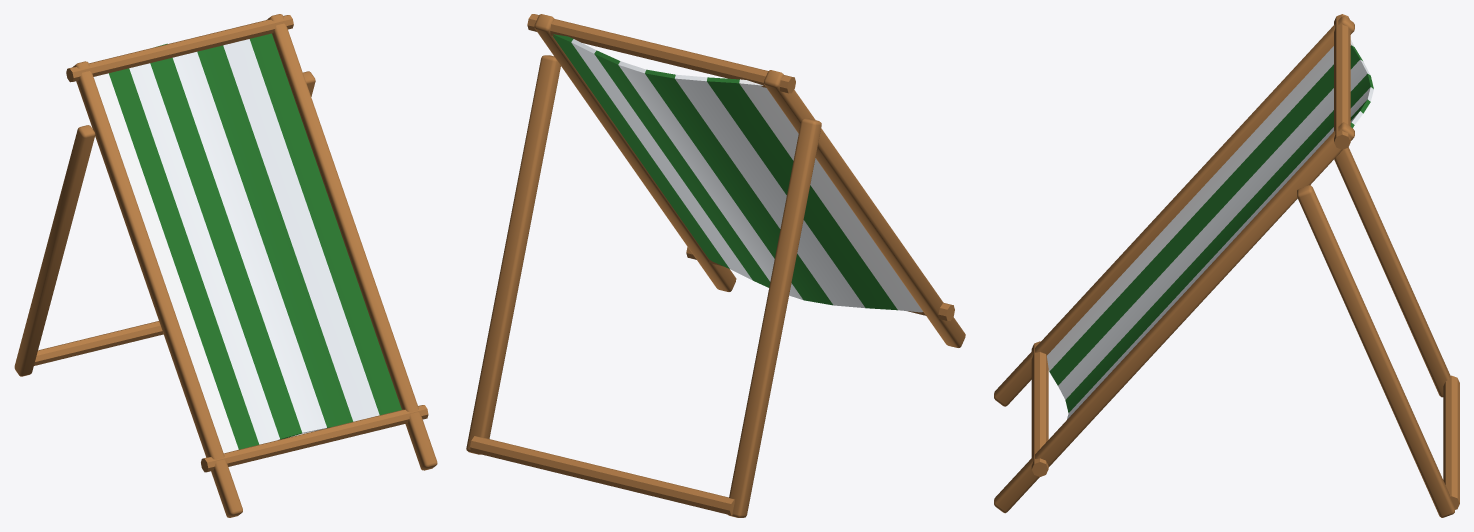
The model's file is SunbedGreen.fbx.
The picture shows the model from 3 angles, left to right: view 1: azimuth 30°, elevation 25°; view 2: azimuth 150°, elevation 25°; view 3: azimuth 270°, elevation 25°; orthographic projection. The views are drawn at different scales.
Visible parts, largest first — view 1: napagy; view 2: napagy; view 3: napagy.
Part boxes in pixels (left/top/right/bottom): napagy: left=14, top=14, right=437, bottom=517; napagy: left=466, top=14, right=965, bottom=517; napagy: left=994, top=14, right=1459, bottom=517.
Size of the model in its own units: 0.72 by 1.01 by 1.11.
1 material, 1 textured.
